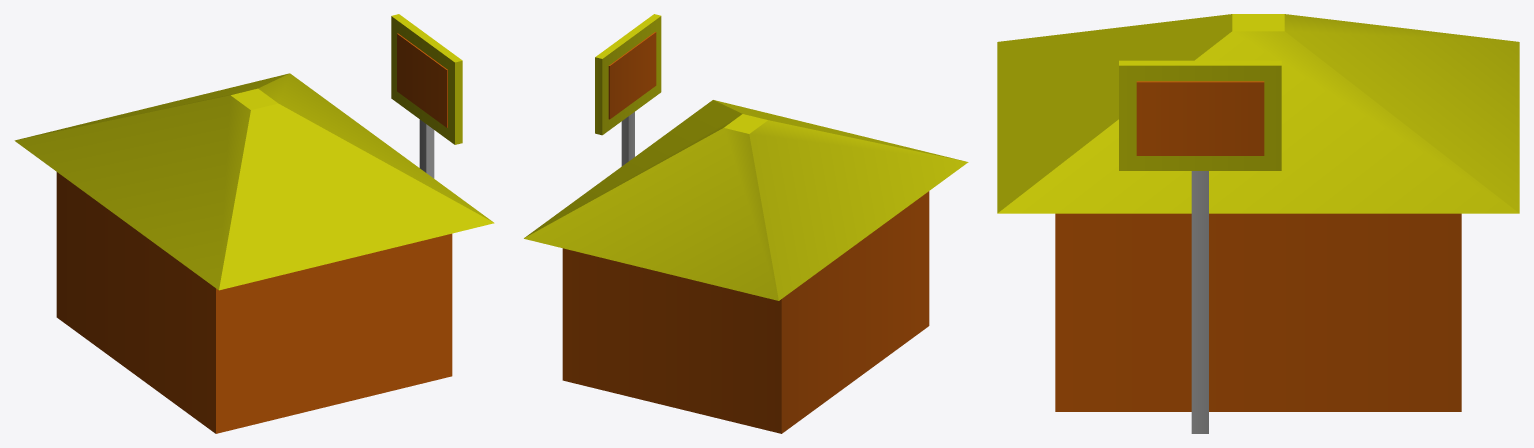
File: fast-food-low.glb
3 renders of one model, left to right at view 1: azimuth 30°, elevation 25°; view 2: azimuth 150°, elevation 25°; view 3: azimuth 270°, elevation 25°, orthographic. The views are drawn at different scales.
Parts seen in each view (by area): view 1: mesh0; view 2: mesh0; view 3: mesh0.
Part boxes in pixels (box(x1,y1,x2,y2)): mesh0: box(14, 14, 494, 433); mesh0: box(524, 14, 968, 433); mesh0: box(997, 14, 1519, 433).
Bounding box in the file's own units: 0.743 × 0.7 × 0.9.
